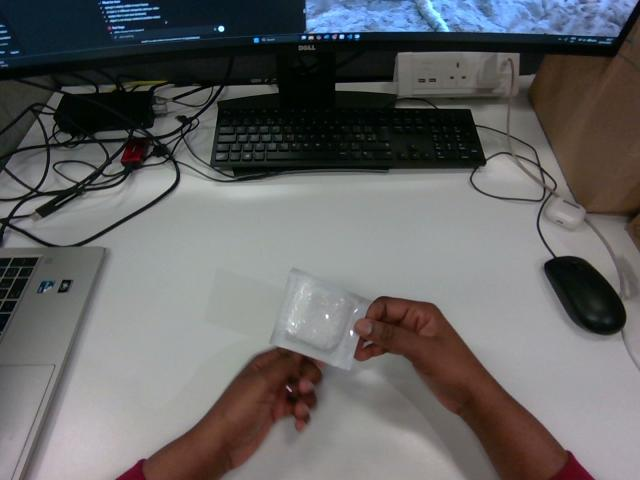gauze: (270, 269, 370, 369)
